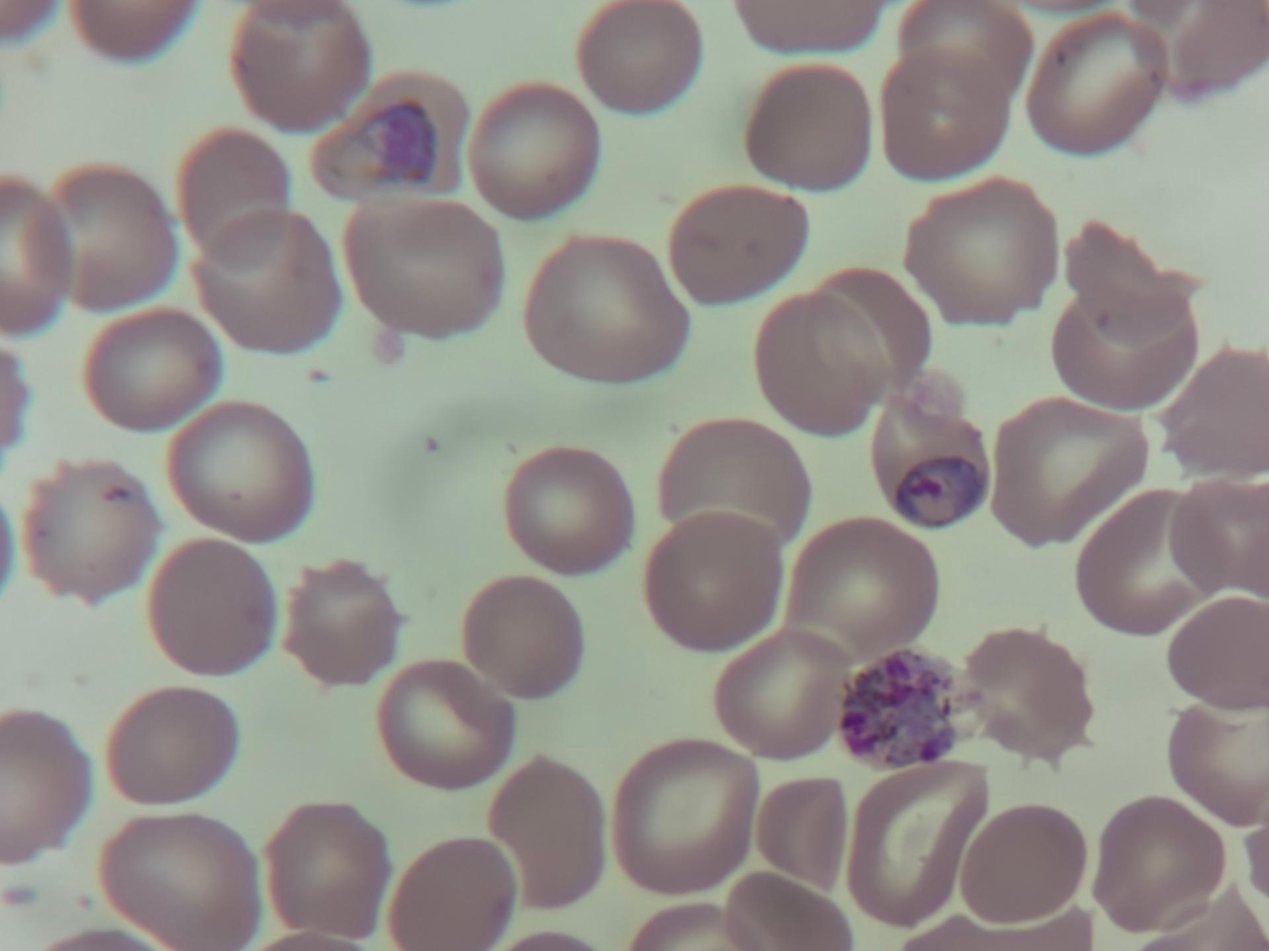Infected: (312, 73, 467, 201), (871, 390, 987, 527), (839, 648, 961, 768)
Uninfected: (524, 235, 682, 383), (843, 763, 986, 925), (23, 166, 180, 313), (344, 196, 504, 340), (611, 740, 756, 895), (903, 178, 1054, 324), (991, 399, 1140, 545), (99, 814, 258, 949), (782, 517, 933, 658), (196, 207, 338, 353), (166, 402, 310, 542), (642, 509, 786, 648), (24, 457, 163, 601), (1026, 11, 1164, 155), (753, 289, 888, 436), (880, 39, 1019, 179), (655, 419, 808, 544), (484, 755, 607, 909), (228, 0, 370, 132), (957, 628, 1091, 767), (1059, 219, 1200, 348), (145, 540, 277, 676), (1075, 488, 1198, 632), (469, 83, 598, 218), (712, 632, 849, 759), (377, 662, 512, 788), (1053, 296, 1195, 415), (261, 804, 387, 938), (669, 185, 810, 304), (1093, 800, 1219, 931), (178, 126, 289, 274), (744, 64, 871, 192), (84, 309, 218, 430), (502, 447, 631, 572), (106, 688, 239, 807), (954, 805, 1081, 928), (461, 576, 584, 698), (815, 267, 929, 395), (281, 560, 401, 681), (385, 839, 518, 948), (1161, 344, 1269, 475), (576, 1, 698, 111), (1, 711, 89, 856), (894, 1, 1030, 94), (1167, 480, 1268, 605), (1166, 592, 1268, 712), (1168, 703, 1266, 824), (752, 775, 849, 893), (1, 180, 73, 331), (1155, 1, 1269, 95), (724, 870, 856, 949), (0, 348, 30, 456), (39, 927, 147, 949)
